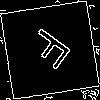F: (25, 25, 80, 77)
